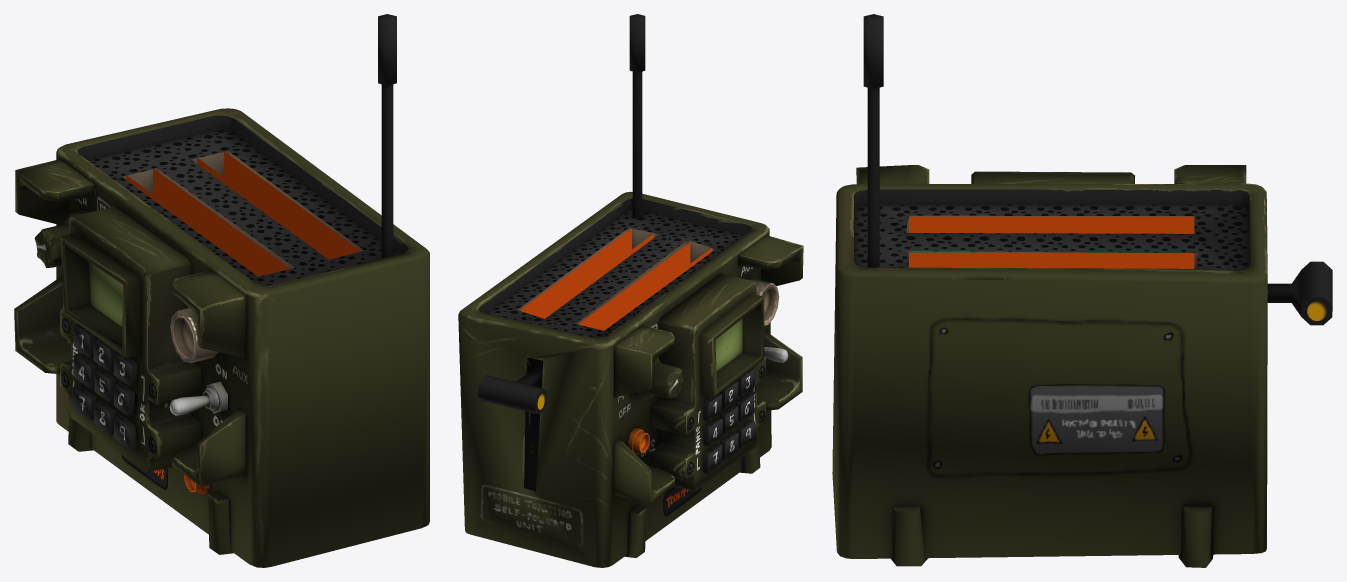
File: US_Army_mesh.fbx
The picture shows the model from 3 angles, left to right: view 1: azimuth 30°, elevation 25°; view 2: azimuth 150°, elevation 25°; view 3: azimuth 270°, elevation 25°; orthographic projection. The views are drawn at different scales.
Parts seen in each view (by area): view 1: US_Army_mesh, grillobj, Antenna, knob4, flipper; view 2: US_Army_mesh, grillobj, Antenna, Handle, knob4; view 3: US_Army_mesh, grillobj, Antenna, Handle.
Part boxes in pixels (x1,y1,x2,y2): US_Army_mesh: (14, 108, 429, 567); grillobj: (126, 151, 360, 276); Antenna: (378, 14, 396, 258); knob4: (34, 209, 89, 267); flipper: (169, 395, 210, 415); US_Army_mesh: (458, 191, 803, 567); grillobj: (520, 228, 712, 330); Antenna: (629, 14, 645, 218); Handle: (478, 366, 547, 414); knob4: (630, 357, 683, 400); US_Army_mesh: (832, 165, 1267, 567); grillobj: (909, 216, 1194, 268); Antenna: (863, 14, 883, 267); Handle: (1267, 261, 1332, 325).
Bounding box in the file's own units: 21.35 × 41.25 × 35.36.
